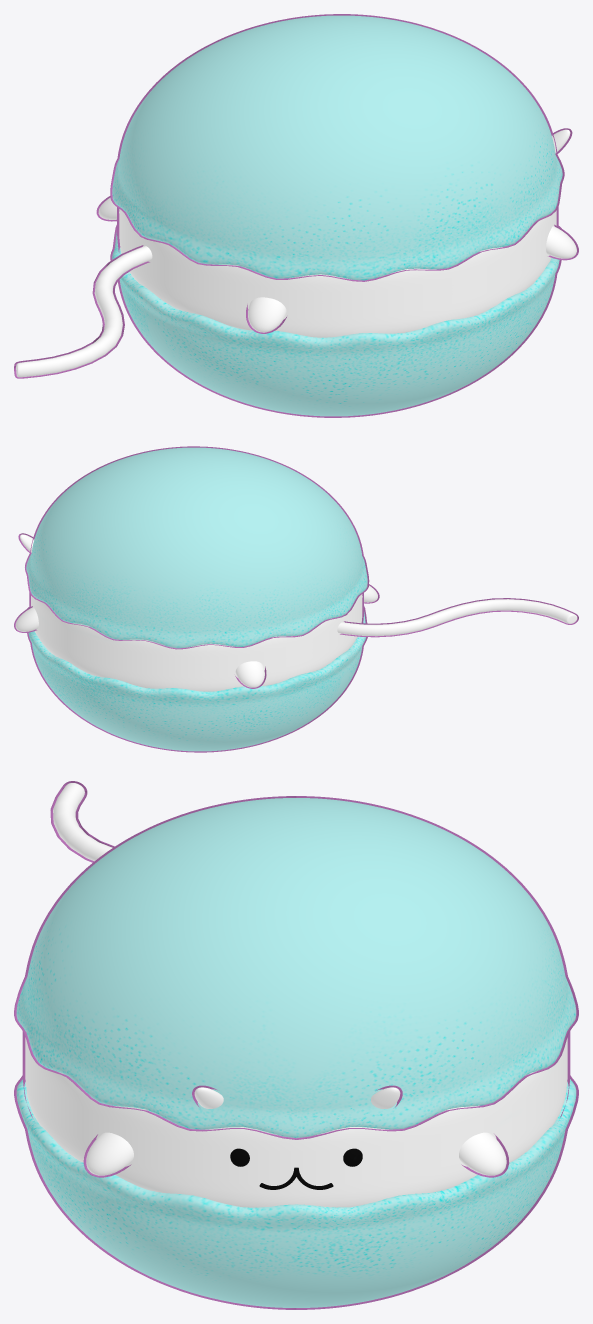
The model's file is cat-_arun.glb.
3 views of the same model, one above another, from view 1: azimuth 30°, elevation 25°; view 2: azimuth 150°, elevation 25°; view 3: azimuth 270°, elevation 25° (orthographic). The views are drawn at different scales.
Parts seen in each view (by area): view 1: Object_3, Object_2; view 2: Object_3, Object_2; view 3: Object_3, Object_2.
Part boxes in pixels (bbox=[...]): Object_3: bbox=[110, 14, 564, 417]; Object_2: bbox=[14, 128, 578, 378]; Object_3: bbox=[25, 446, 369, 752]; Object_2: bbox=[14, 533, 578, 691]; Object_3: bbox=[14, 796, 578, 1309]; Object_2: bbox=[22, 781, 570, 1207].
Size of the model in its own units: 101 by 54.4 by 64.1.
Materials: 1 (1 with a texture image).
